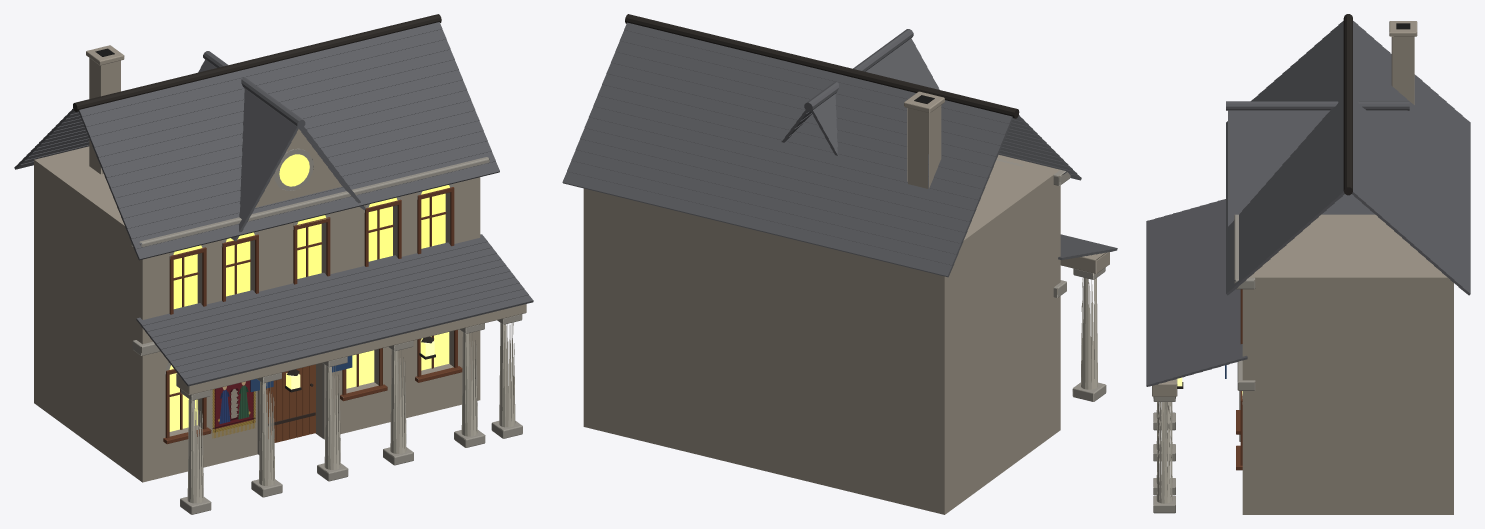
File: concejo_ligero.glb
The picture shows the model from 3 angles, left to right: view 1: azimuth 30°, elevation 25°; view 2: azimuth 150°, elevation 25°; view 3: azimuth 270°, elevation 25°; orthographic projection. The views are drawn at different scales.
Visible parts, largest first — view 1: conc_dentro, conc_tejado_s_0, conc_tejado_s_13, conc_tejado_s_12, conc_pb, conc_tejado_s_11, conc_tejado_s_10, conc_tejado_s_9, conc_tejado_s_8, conc_tejado_s_7, arquitrabe, conc_tejado_s_6 (+54 smaller); view 2: conc_dentro, conc_tejado_n_0, conc_tejado_n_5, conc_tejado_n_1, conc_tejado_n_4, conc_tejado_n_2, conc_tejado_n_3, conc_tejado_n_6, conc_tejado_n_7, conc_tejado_n_8, conc_tejado_n_13, conc_tejado_n_9 (+13 smaller); view 3: conc_dentro, conc_pb.011, conc_tejado_cumbrera, portico_tejado_5, portico_tejado_7, portico_tejado_6, conc_tejado_n_0, conc_tej_hastial_cumbrera, conc_tejado_n_1, conc_tejado_n_5, conc_tejado_n_4, conc_tejado_n_6 (+49 smaller).
Boxes of the visible parts, <box> form: conc_dentro: <box>34,146,134,476</box>; conc_tejado_s_0: <box>133,161,499,260</box>; conc_tejado_s_13: <box>80,29,446,127</box>; conc_tejado_s_12: <box>84,39,450,137</box>; conc_pb: <box>135,348,168,482</box>; conc_tejado_s_11: <box>88,49,454,147</box>; conc_tejado_s_10: <box>92,59,458,157</box>; conc_tejado_s_9: <box>96,70,462,167</box>; conc_tejado_s_8: <box>100,80,466,178</box>; conc_tejado_s_7: <box>105,90,470,187</box>; arquitrabe: <box>176,304,526,395</box>; conc_tejado_s_6: <box>109,100,475,198</box>; conc_dentro: <box>583,162,1052,514</box>; conc_tejado_n_0: <box>562,171,954,277</box>; conc_tejado_n_5: <box>584,117,976,222</box>; conc_tejado_n_1: <box>567,160,958,265</box>; conc_tejado_n_4: <box>580,128,971,233</box>; conc_tejado_n_2: <box>571,150,962,254</box>; conc_tejado_n_3: <box>575,139,967,243</box>; conc_tejado_n_6: <box>589,106,980,211</box>; conc_tejado_n_7: <box>593,95,985,200</box>; conc_tejado_n_8: <box>598,84,989,189</box>; conc_tejado_n_13: <box>619,30,1011,135</box>; conc_tejado_n_9: <box>602,73,993,178</box>; conc_dentro: <box>1257,214,1453,514</box>; conc_pb.011: <box>1242,384,1257,514</box>; conc_tejado_cumbrera: <box>1343,14,1352,195</box>; portico_tejado_5: <box>1190,206,1202,374</box>; portico_tejado_7: <box>1208,201,1220,369</box>; portico_tejado_6: <box>1199,204,1211,371</box>; conc_tejado_n_0: <box>1458,116,1470,295</box>; conc_tej_hastial_cumbrera: <box>1226,101,1409,110</box>; conc_tejado_n_1: <box>1450,109,1462,286</box>; conc_tejado_n_5: <box>1418,81,1430,259</box>; conc_tejado_n_4: <box>1426,88,1438,267</box>; conc_tejado_n_6: <box>1410,74,1422,251</box>.
Size of the model in its own units: 9.7 by 9.13 by 7.68.
15 materials, 1 textured.
